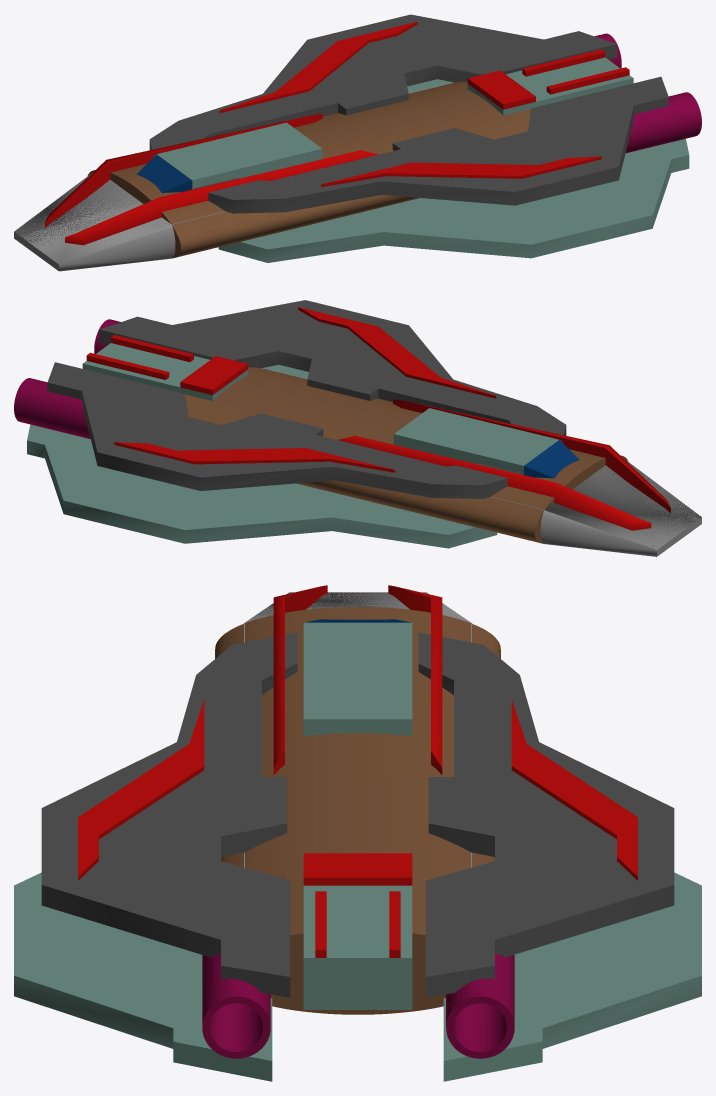
The model's file is spaceship.fbx.
The picture shows the model from 3 angles, top to bottom: view 1: azimuth 30°, elevation 25°; view 2: azimuth 150°, elevation 25°; view 3: azimuth 270°, elevation 25°; orthographic projection. The views are drawn at different scales.
Parts seen in each view (by area): view 1: Space_Ship, 12_1_2D, 6_1_2D, 13_1_2D, 19_1_2D, 10_1_2D, 18_1_2D, 7_1_2D; view 2: Space_Ship, 6_1_2D, 12_1_2D, 19_1_2D, 18_1_2D, 10_1_2D, 13_1_2D, 7_1_2D; view 3: Space_Ship, 10_1_2D, 6_1_2D, 13_1_2D, 18_1_2D, 12_1_2D, 19_1_2D.
Part boxes in pixels (x1=…): Space_Ship: x1=87, y1=14, x2=701, y2=262; 12_1_2D: x1=14, y1=181, x2=175, y2=271; 6_1_2D: x1=157, y1=122, x2=322, y2=189; 13_1_2D: x1=65, y1=150, x2=378, y2=245; 19_1_2D: x1=14, y1=172, x2=169, y2=270; 10_1_2D: x1=467, y1=57, x2=633, y2=115; 18_1_2D: x1=45, y1=113, x2=322, y2=227; 7_1_2D: x1=136, y1=154, x2=192, y2=192; Space_Ship: x1=14, y1=300, x2=628, y2=548; 6_1_2D: x1=393, y1=408, x2=558, y2=474; 12_1_2D: x1=545, y1=461, x2=701, y2=549; 19_1_2D: x1=540, y1=457, x2=699, y2=556; 18_1_2D: x1=338, y1=435, x2=651, y2=530; 10_1_2D: x1=82, y1=343, x2=248, y2=401; 13_1_2D: x1=393, y1=399, x2=670, y2=512; 7_1_2D: x1=524, y1=440, x2=579, y2=478; Space_Ship: x1=14, y1=607, x2=701, y2=1081; 10_1_2D: x1=303, y1=885, x2=412, y2=1009; 6_1_2D: x1=303, y1=622, x2=412, y2=736; 13_1_2D: x1=273, y1=585, x2=327, y2=774; 18_1_2D: x1=388, y1=585, x2=442, y2=774; 12_1_2D: x1=242, y1=592, x2=471, y2=624; 19_1_2D: x1=245, y1=592, x2=473, y2=624.
Size of the model in its own units: 3741 by 391 by 2373.
